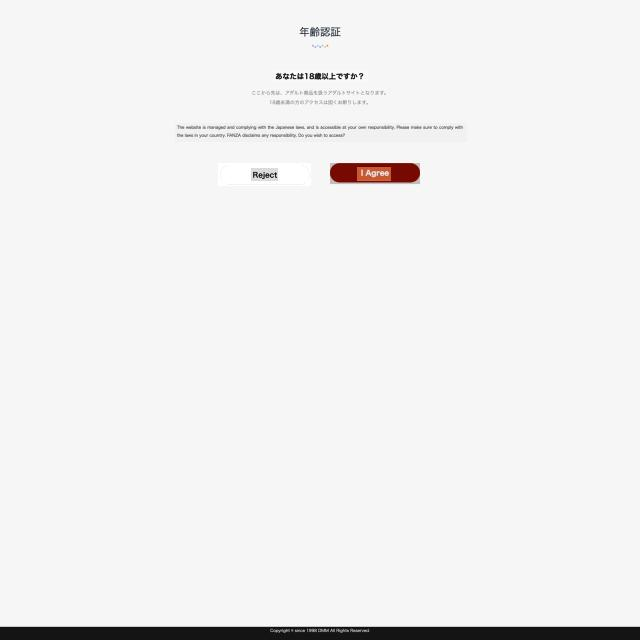CheckBox: (218, 163, 311, 186), (330, 163, 420, 186)
Input field: (175, 123, 467, 142)
data feed: (357, 168, 391, 182), (251, 168, 278, 181)
image: (274, 70, 368, 82)
